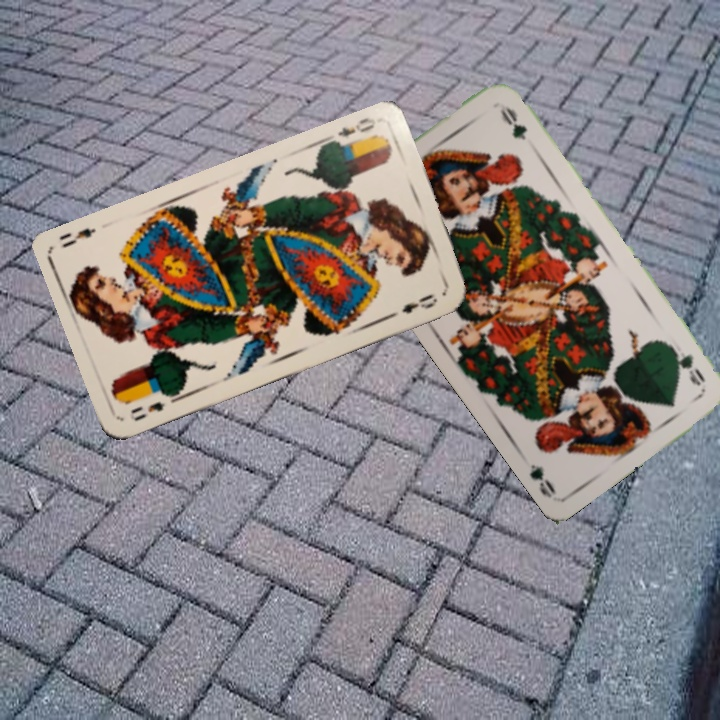EO: (127, 389, 178, 424), (334, 113, 379, 140)
GO: (665, 340, 709, 389)
